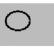no answer: (4, 8, 34, 34)
